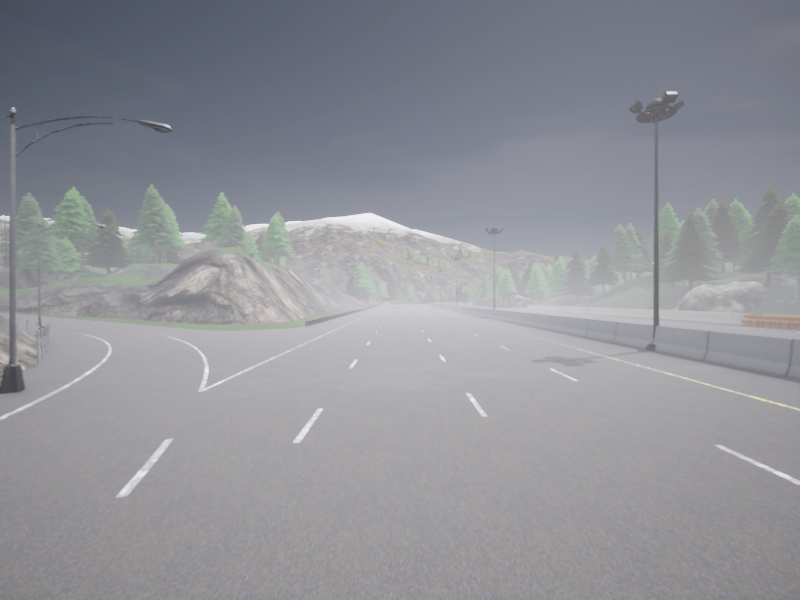vehicle: (464, 301, 468, 303)
